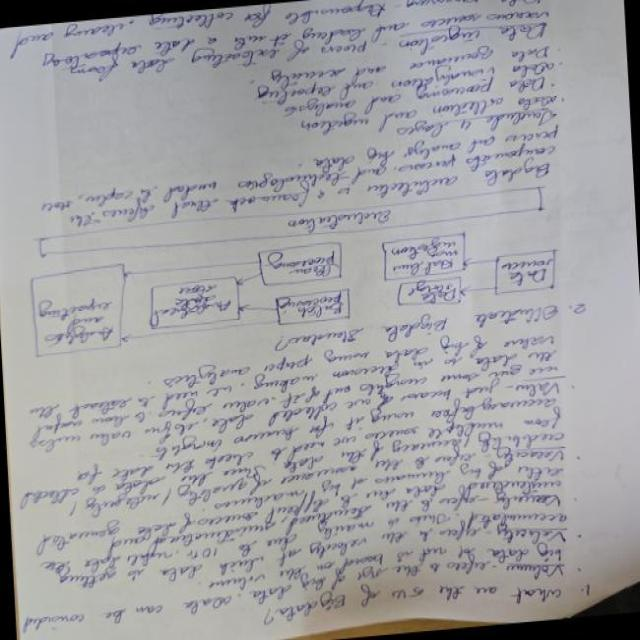Figure Detection - v3 Dataset Version2: (10, 180, 573, 365)
